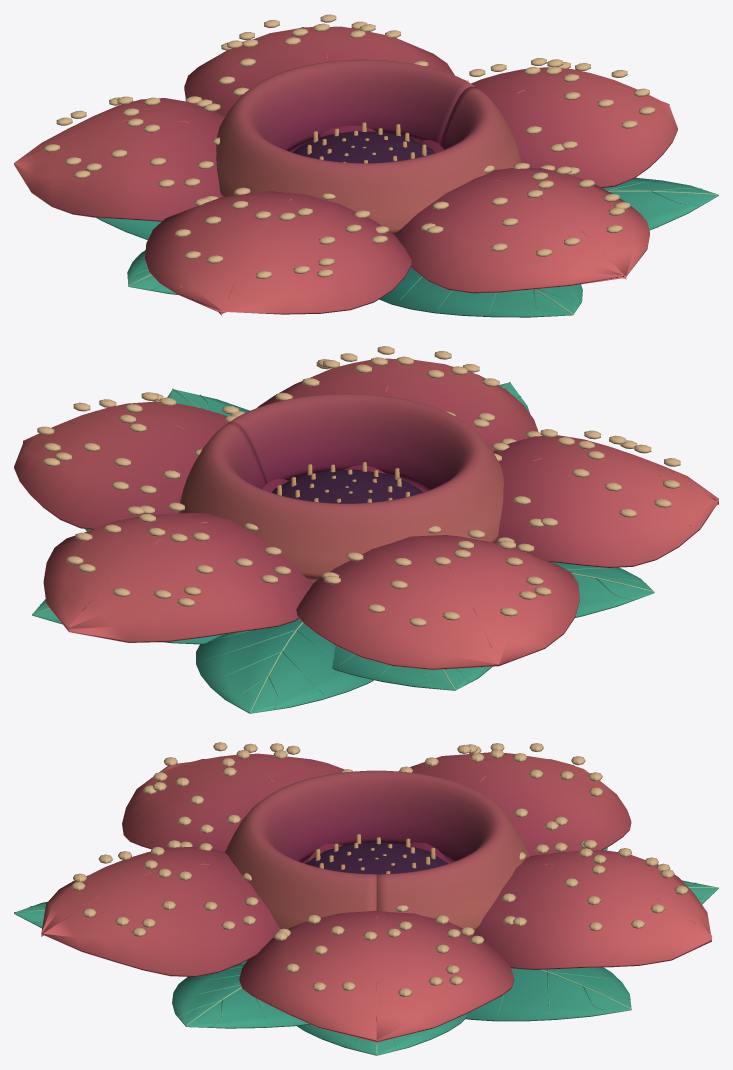
File: enchanted-rafflesia.glb
3 renders of one model, top to bottom at view 1: azimuth 30°, elevation 25°; view 2: azimuth 150°, elevation 25°; view 3: azimuth 270°, elevation 25°, orthographic. The views are drawn at different scales.
Parts seen in each view (by area): view 1: enchanted-rafflesia-sculpted-details; view 2: enchanted-rafflesia-sculpted-details; view 3: enchanted-rafflesia-sculpted-details.
Part boxes in pixels (box(x1,y1,x2,y2)): enchanted-rafflesia-sculpted-details: box(14, 14, 718, 317); enchanted-rafflesia-sculpted-details: box(14, 346, 718, 713); enchanted-rafflesia-sculpted-details: box(14, 742, 718, 1055).
Bounding box in the file's own units: 4.39 × 1 × 4.71.
